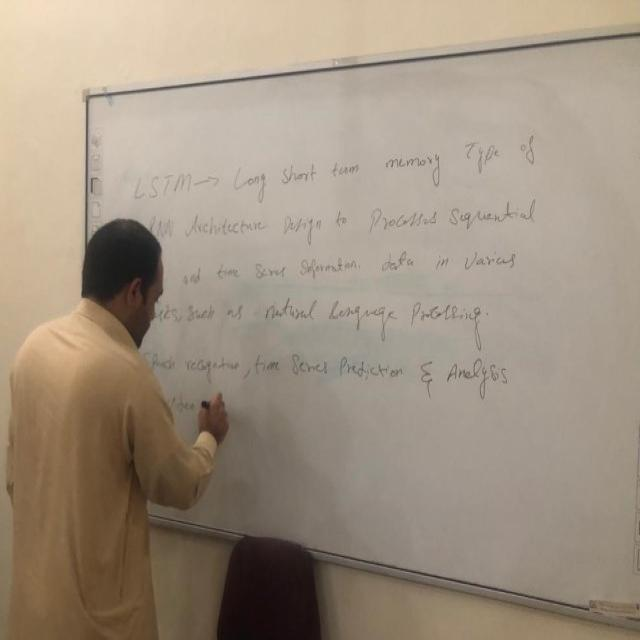Instructor: (36, 207, 181, 624)
White-board: (84, 11, 640, 629)
